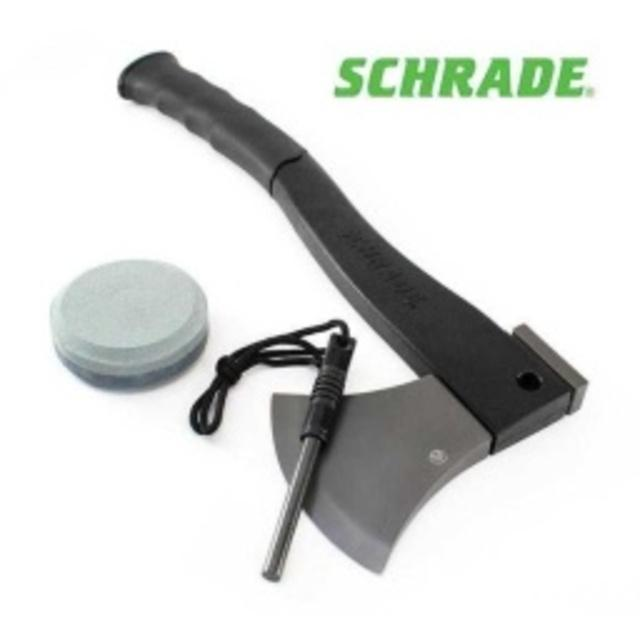ax: (111, 41, 599, 588)
